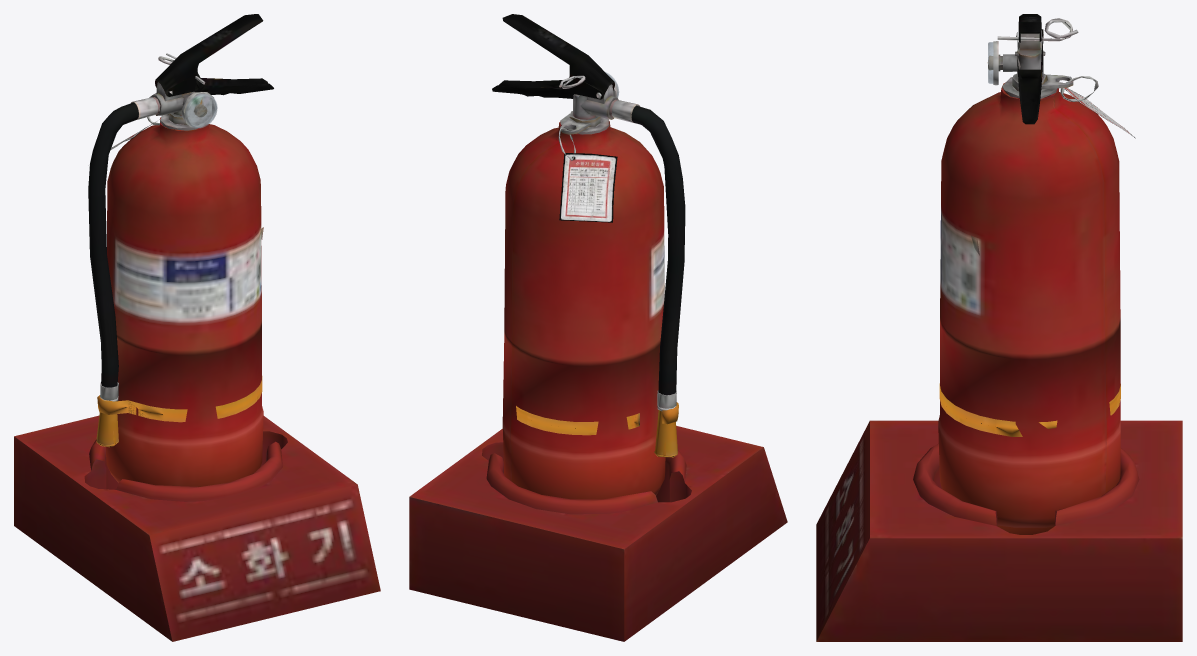
Rendered from korean_fire_extinguisher_01.glb.
3 renders of one model, left to right at view 1: azimuth 30°, elevation 25°; view 2: azimuth 150°, elevation 25°; view 3: azimuth 270°, elevation 25°, orthographic. The views are drawn at different scales.
Parts seen in each view (by area): view 1: korean_fire_extinguisher_01; view 2: korean_fire_extinguisher_01; view 3: korean_fire_extinguisher_01.
Boxes of the visible parts, x1=… form: korean_fire_extinguisher_01: x1=14, y1=14, x2=380, y2=641; korean_fire_extinguisher_01: x1=409, y1=14, x2=787, y2=641; korean_fire_extinguisher_01: x1=816, y1=14, x2=1182, y2=641.
Bounding box in the file's own units: 0.279 × 0.6581 × 0.3675.
Materials: 3 (3 with a texture image).
